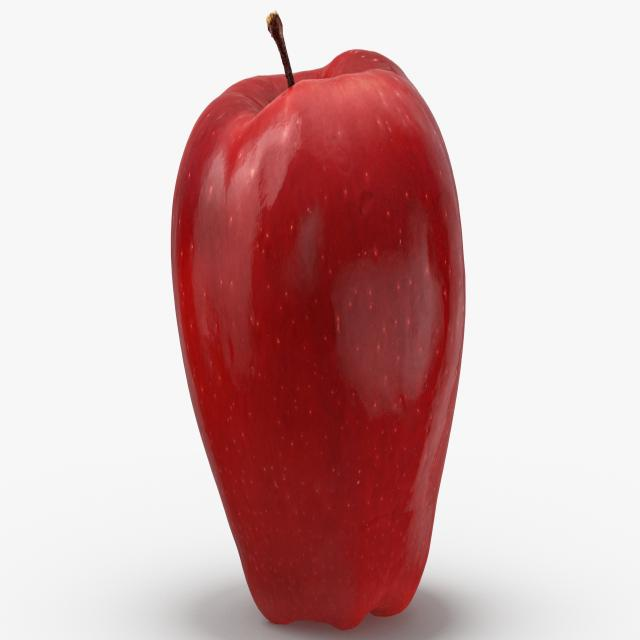Apple: (165, 13, 468, 623)
